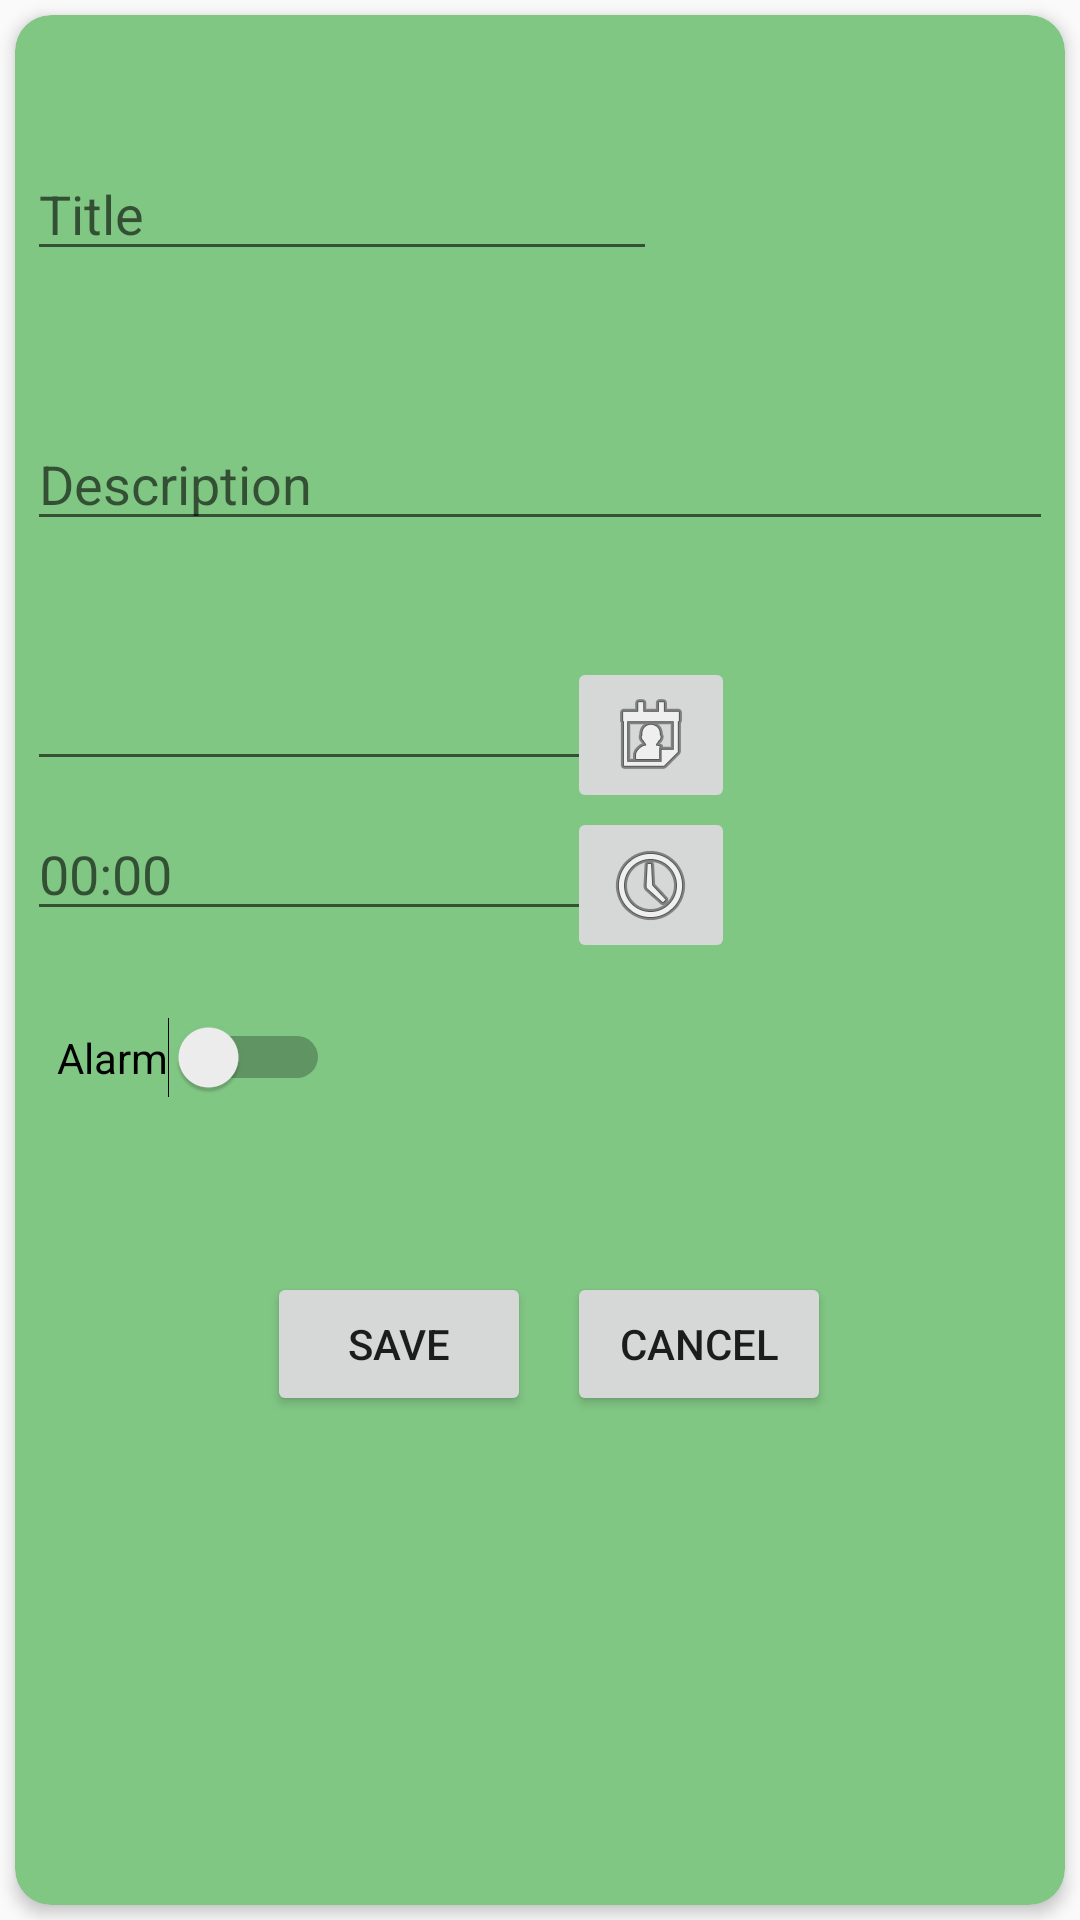

Icon bounding boxes for this 1080px x 1920px phone screenshot, format box=[x1, y1, x2, y2]:
calendar: box=[567, 675, 723, 795]
recent history: box=[567, 825, 723, 945]
